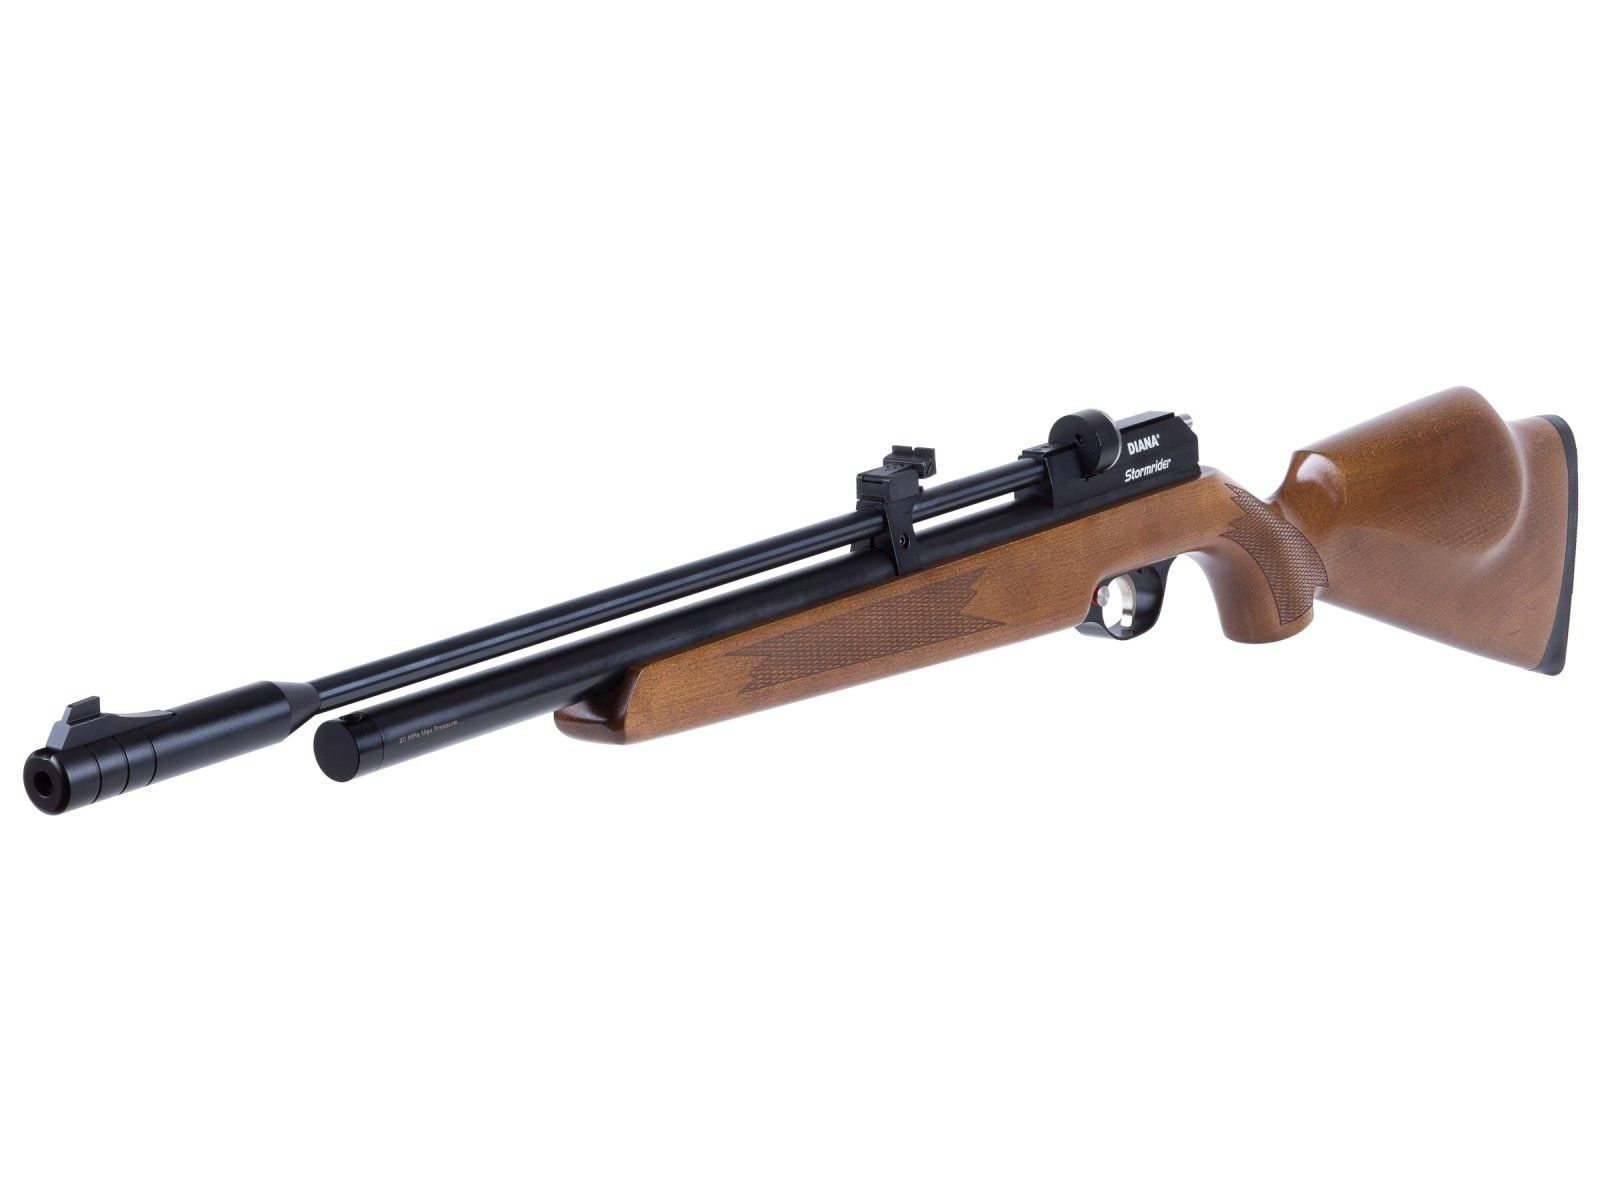Gun: (437, 378, 1363, 771)
